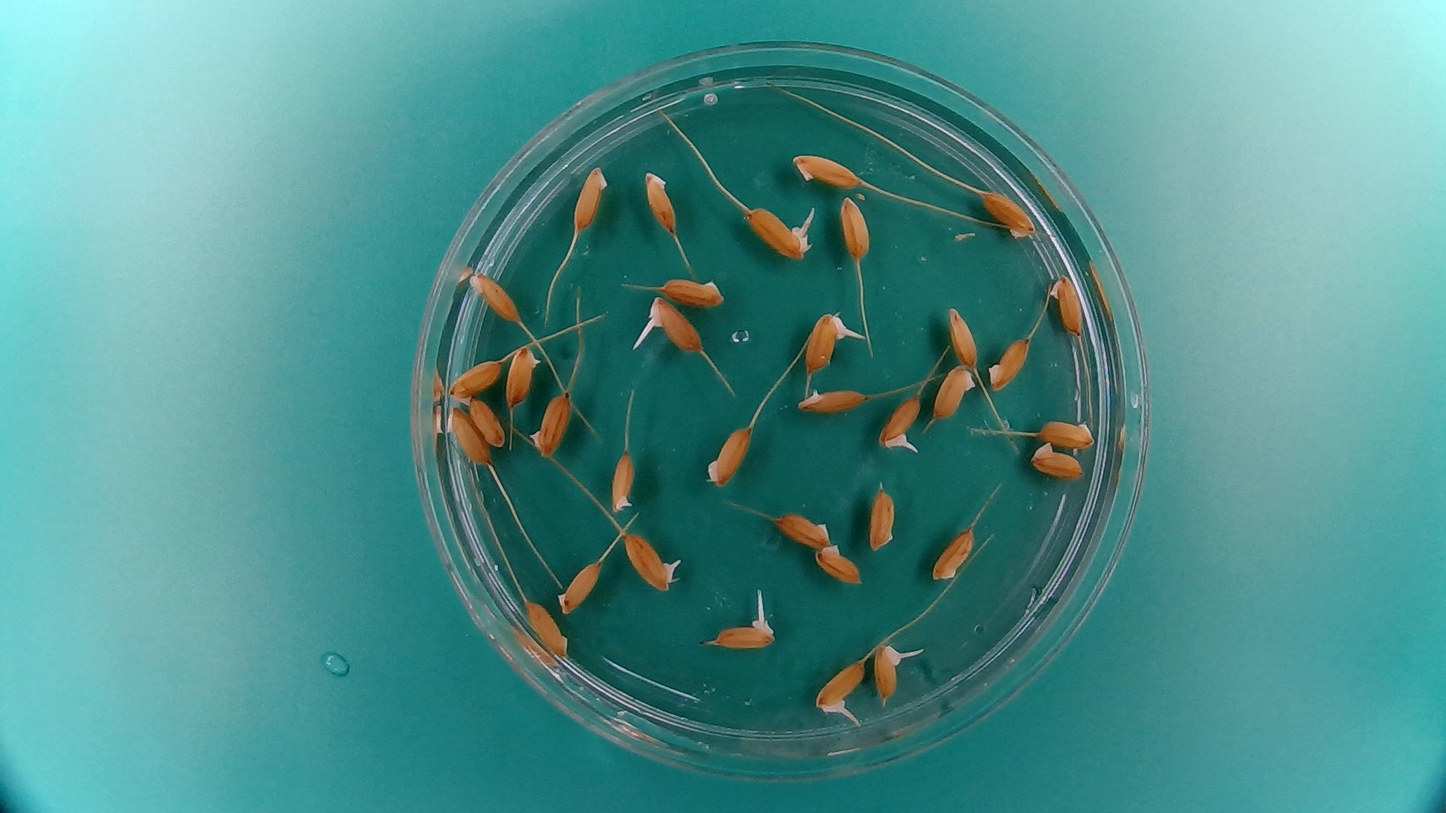no: (526, 390, 575, 459), (442, 404, 494, 469), (977, 187, 1038, 242), (789, 148, 865, 190), (704, 423, 753, 488), (521, 597, 570, 661), (468, 267, 522, 324), (1043, 269, 1088, 337), (446, 355, 506, 404), (569, 163, 610, 233), (929, 364, 977, 419), (986, 334, 1030, 393), (795, 381, 869, 416), (641, 167, 679, 233), (557, 559, 601, 615), (931, 525, 975, 581), (771, 510, 834, 549), (1027, 441, 1088, 480), (506, 343, 542, 407), (813, 541, 864, 586), (946, 304, 981, 367), (837, 196, 872, 259), (467, 393, 505, 449), (659, 274, 725, 306), (868, 485, 898, 551), (1036, 416, 1096, 448)
yes: (742, 202, 817, 261), (621, 530, 680, 593), (813, 655, 868, 720), (648, 297, 705, 355), (802, 309, 847, 373), (875, 393, 923, 452), (873, 641, 914, 704), (705, 617, 776, 650), (608, 450, 636, 513)
